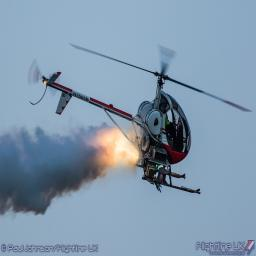helicopter: (23, 36, 205, 200)
